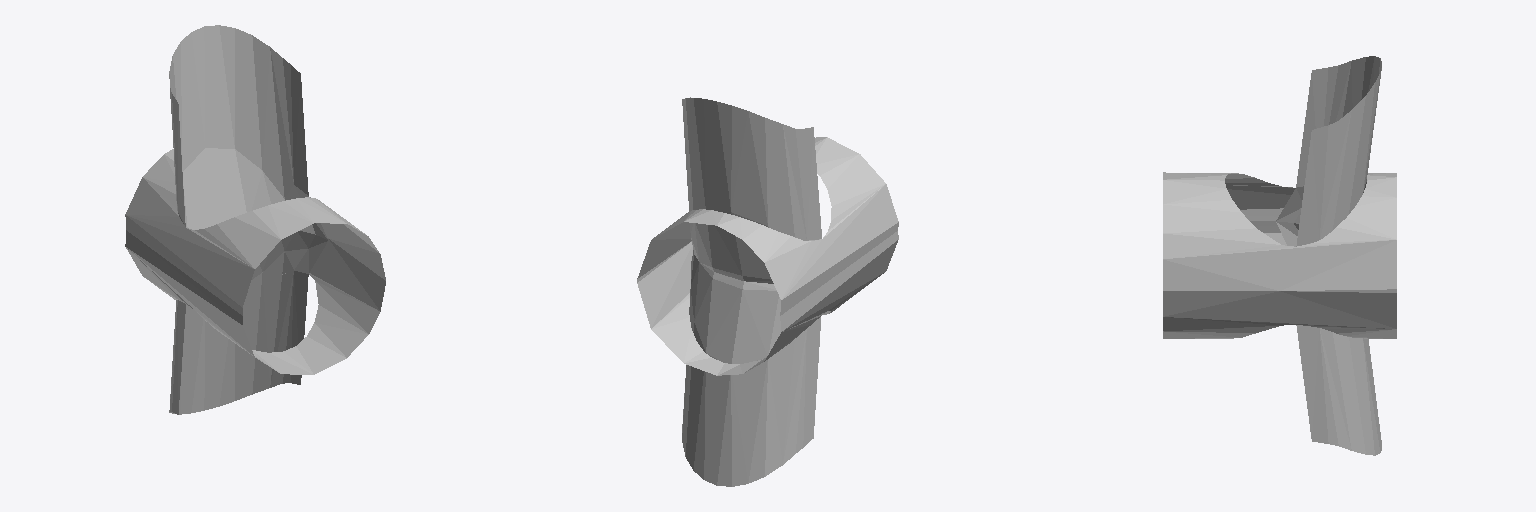
The model's file is cylinder_out_both_side.obj.
The picture shows the model from 3 angles: view 1: azimuth 30°, elevation 25°; view 2: azimuth 150°, elevation 25°; view 3: azimuth 270°, elevation 25°; orthographic projection.
Visible parts, largest first — view 1: out.002; view 2: out.002; view 3: out.002.
Part boxes in pixels (bbox=[...]): out.002: bbox=[125, 25, 385, 414]; out.002: bbox=[637, 97, 898, 486]; out.002: bbox=[1163, 56, 1396, 455].
Bounding box in the file's own units: 2.34 × 5.95 × 3.29.